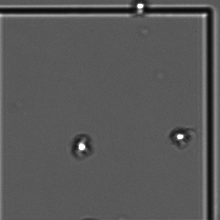Living Cell: (68, 128, 93, 159), (167, 122, 190, 151), (136, 1, 145, 17)
